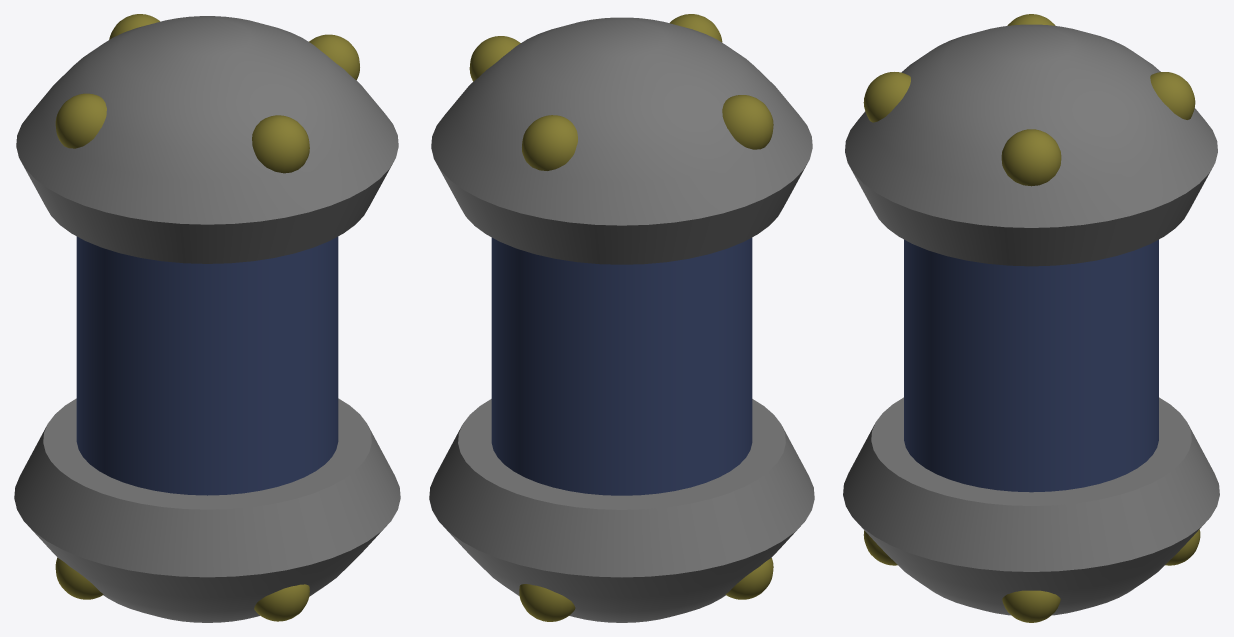
File: Timecore.fbx
3 views of the same model, side by side, from view 1: azimuth 30°, elevation 25°; view 2: azimuth 150°, elevation 25°; view 3: azimuth 270°, elevation 25° (orthographic). The views are drawn at different scales.
Visible parts, largest first — view 1: pCylinder2; view 2: pCylinder2; view 3: pCylinder2.
Part boxes in pixels (x1,y1,x2,y2): pCylinder2: (14, 14, 400, 622); pCylinder2: (429, 14, 814, 622); pCylinder2: (843, 14, 1219, 622).
Size of the model in its own units: 1.98 by 3.19 by 1.98.
